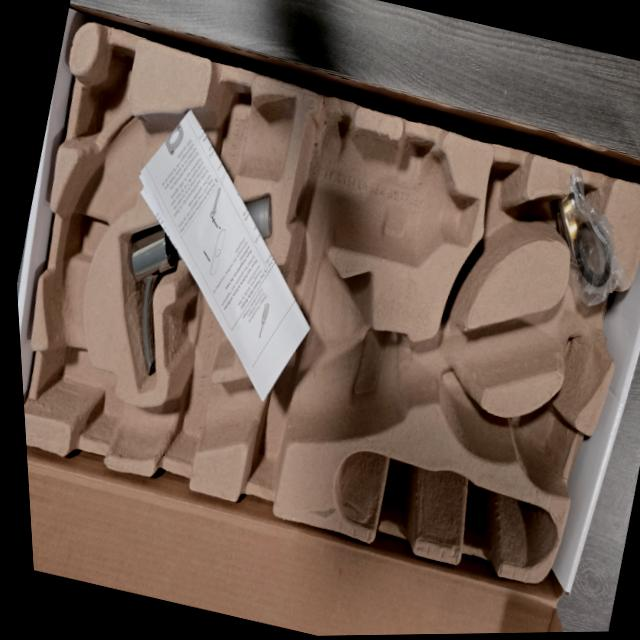1m: (47, 98, 628, 455)
2o: (130, 196, 272, 372)
3m: (289, 112, 479, 262)
4m: (333, 450, 557, 565)
5m: (516, 409, 562, 470)
6: (556, 164, 626, 307)
7m: (462, 162, 546, 287)
8: (138, 106, 311, 403)
